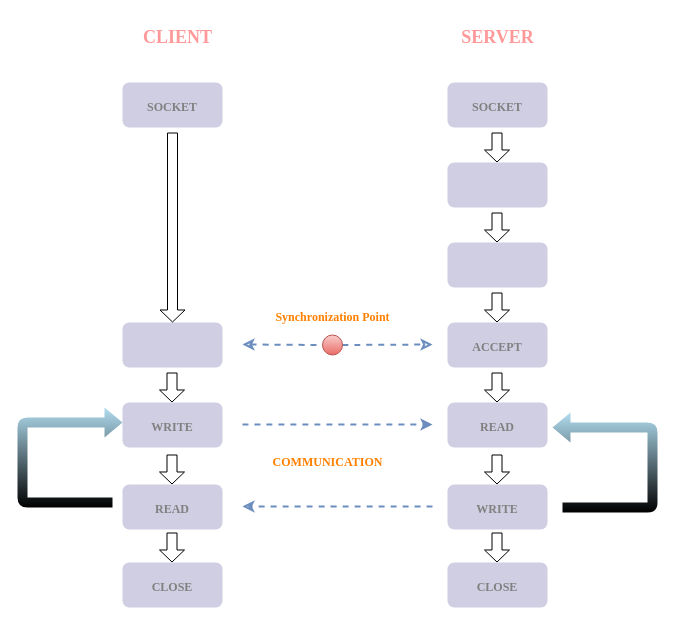
Some shapes in this 674 by 624 pixel diagram are drawn without their labels. Here are the shapes that lost their labels. From the top down, the centre of each, then its label:
At pixel 497 184: "BIND".
At pixel 497 264: "LISTEN".
At pixel 172 344: "CONNECT".
